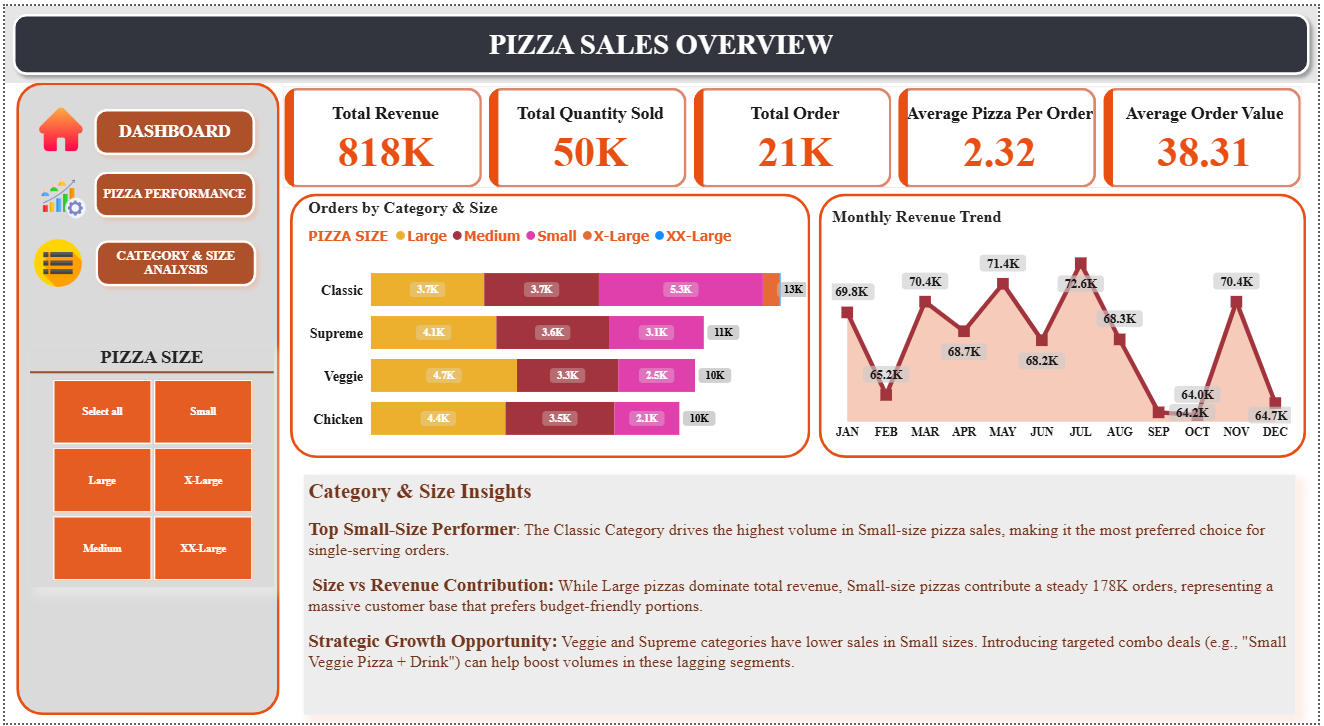

The page's visual inventory and layout, read from the dashboard file:
{"tool":"powerbi","page":{"name":"Category & Size Analysis","canvas":[1500,820],"ordinal":2},"visuals":[{"type":"shape","box":[12.7,87.2,301.1,723.3],"z":0},{"type":"shape","box":[0,0,1499.9,87.7],"z":1000},{"type":"cardVisual","fields":{"Data":["pizza_sales.Total Revenue","pizza_sales.Total Quantity Sold","pizza_sales.Total Order","pizza_sales.Average Pizza Per Order","pizza_sales.Average Order Value"]},"box":[313.4,87.7,1174,126.7],"z":2000},{"type":"shape","box":[325.7,213.8,594.7,302.3],"z":3000},{"type":"image","box":[34.7,111.7,59,59],"z":4000},{"type":"shape","title":"DASHBOARD","box":[93.3,108.6,201.9,71],"z":5000},{"type":"shape","title":"DASHBOARD","box":[94.7,259,201.9,71],"z":6000},{"type":"textbox","box":[341.2,536.2,1133.6,274.4],"z":7000},{"type":"barChart","title":"Orders by Category & Size","fields":{"Category":["pizza_sales.pizza_category"],"Y":["pizza_sales.Total Order"],"Series":["pizza_sales.pizza_Smallize"]},"box":[341.2,220,579.4,296.6],"z":8000},{"type":"slicer","title":"PIZZA SIZE","fields":{"Values":["pizza_sales.pizza_Smallize"]},"box":[29.2,388.6,278.5,275.7],"z":10000},{"type":"image","box":[29.2,259,64.1,71],"z":11000},{"type":"shape","title":"DASHBOARD","box":[93.3,179.7,201.9,71],"z":11001},{"type":"image","box":[29.2,188,76.6,62.7],"z":11002},{"type":"shape","box":[930.3,214.5,557.1,302.2],"z":11003},{"type":"lineChart","title":"Monthly Revenue Trend","fields":{"Y":["pizza_sales.Total Revenue"],"Category":["pizza_sales.short month"]},"box":[940.1,229.8,534.8,274.4],"z":11004}]}

Visuals, with their boxes in screenshot pixels (x1, y1, x2, y2), scaled from the page's 1500x820 canvas onto the 1324x726 screenshot:
shape: box(11, 77, 277, 718)
shape: box(0, 0, 1323, 78)
cardVisual - pizza_sales.Total Revenue x pizza_sales.Total Quantity Sold: box(277, 78, 1313, 190)
shape: box(287, 189, 812, 457)
image: box(31, 99, 83, 151)
"DASHBOARD" shape: box(82, 96, 261, 159)
"DASHBOARD" shape: box(84, 229, 262, 292)
textbox: box(301, 475, 1302, 718)
"Orders by Category & Size" barChart: box(301, 195, 813, 457)
"PIZZA SIZE" slicer: box(26, 344, 272, 588)
image: box(26, 229, 82, 292)
"DASHBOARD" shape: box(82, 159, 261, 222)
image: box(26, 166, 93, 222)
shape: box(821, 190, 1313, 457)
"Monthly Revenue Trend" lineChart: box(830, 203, 1302, 446)
